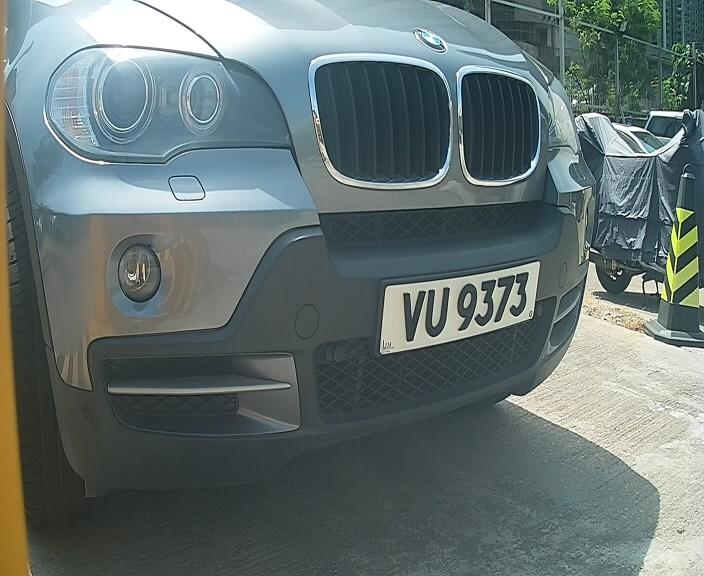Car: (4, 8, 629, 515)
License Plate: (375, 260, 541, 355)
